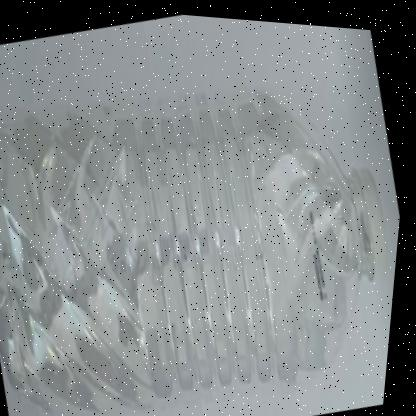bottle cap: (206, 15, 416, 416)
